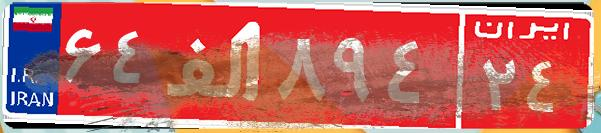2: (475, 38, 525, 113)
4: (385, 28, 445, 110), (110, 28, 158, 105), (525, 38, 570, 115)
6: (57, 26, 110, 107)
8: (273, 28, 330, 110)
9: (330, 28, 385, 110)
الف: (158, 15, 273, 115)
